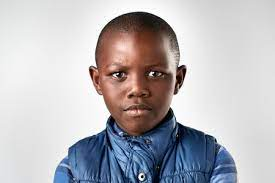person: (88, 10, 188, 136)
